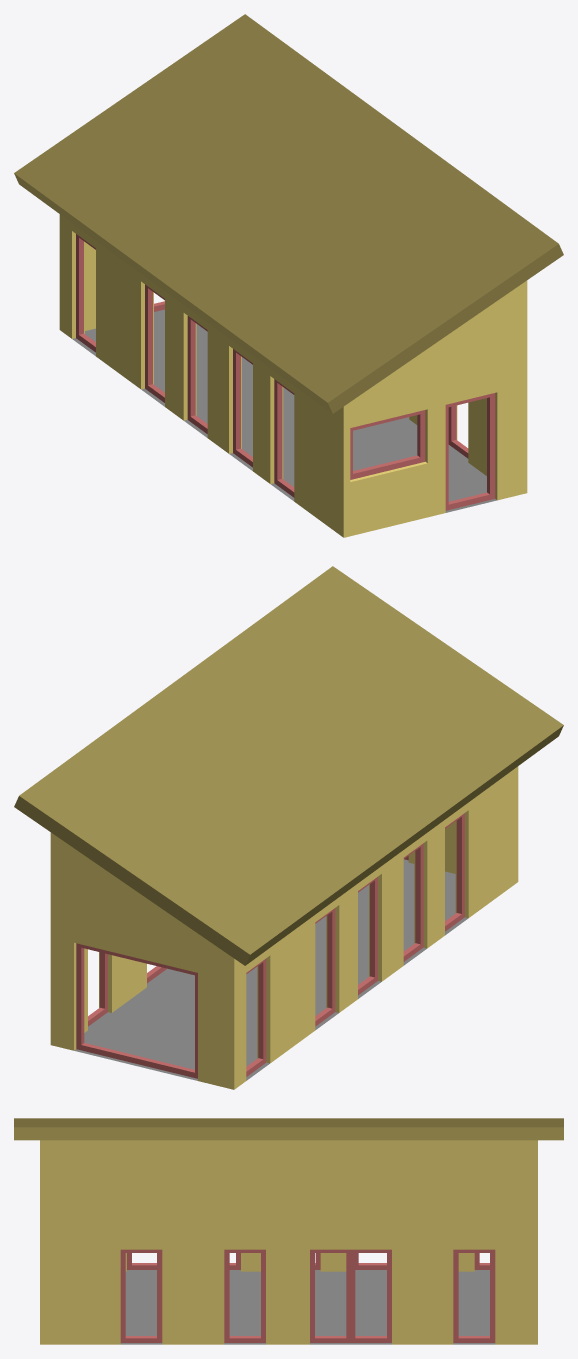
The model's file is result.glb.
The picture shows the model from 3 angles, top to bottom: view 1: azimuth 30°, elevation 25°; view 2: azimuth 150°, elevation 25°; view 3: azimuth 270°, elevation 25°; orthographic projection. The views are drawn at different scales.
Parts seen in each view (by area): view 1: 78934ef8-5779-4a26-8c1c-801f2c1f77dc__undefined, cd479d4e-d19c-4d87-b13c-b2aa748c5237__undefined, fa5a389a-46b9-4f97-81e4-576b27971454__Plane_14, f02e9ea4-f095-4705-b580-7620a6db1b95__Box, e872c83a-c687-47ac-b15b-e4620ad57866__Box_3, eb5b66d4-82ef-4c27-a165-b416f7202d84__Box_12, 17ca66a0-f0e3-4861-9c7f-3a3491b7ace8__Box_18, 2b258c66-caca-48c2-92f3-9c0e418b07a3__Box_21, 73145b31-9e28-4f31-8d9f-2ed79657a4d2__Box_15, abf43171-7023-42b4-a584-f869cf76698a__Box_24; view 2: 78934ef8-5779-4a26-8c1c-801f2c1f77dc__undefined, cd479d4e-d19c-4d87-b13c-b2aa748c5237__undefined, fa5a389a-46b9-4f97-81e4-576b27971454__Plane_14, 88b38bbc-4b21-4c06-92ce-68c6e1b52bb0__Box_9, abf43171-7023-42b4-a584-f869cf76698a__Box_24, 2b258c66-caca-48c2-92f3-9c0e418b07a3__Box_21, 73145b31-9e28-4f31-8d9f-2ed79657a4d2__Box_15, eb5b66d4-82ef-4c27-a165-b416f7202d84__Box_12, 17ca66a0-f0e3-4861-9c7f-3a3491b7ace8__Box_18; view 3: cd479d4e-d19c-4d87-b13c-b2aa748c5237__undefined, 78934ef8-5779-4a26-8c1c-801f2c1f77dc__undefined, fa5a389a-46b9-4f97-81e4-576b27971454__Plane_14, fd828536-f964-4f25-928d-689e93e7c194__Box_39, 5e2315c0-606f-42ff-bd8f-ebd3a9e3d602__Box_27, 066c71ab-774b-4dbe-a9c9-c928105eb89a__Box_30, af400810-23f4-4eae-b261-5957daaef445__Box_33, 068a6796-7b16-428c-90b3-76483e1ce61e__Box_36.
Part boxes in pixels (bbox=[...]): 78934ef8-5779-4a26-8c1c-801f2c1f77dc__undefined: bbox=[14, 14, 563, 413]; cd479d4e-d19c-4d87-b13c-b2aa748c5237__undefined: bbox=[59, 214, 527, 537]; fa5a389a-46b9-4f97-81e4-576b27971454__Plane_14: bbox=[72, 309, 496, 512]; f02e9ea4-f095-4705-b580-7620a6db1b95__Box: bbox=[445, 393, 495, 510]; e872c83a-c687-47ac-b15b-e4620ad57866__Box_3: bbox=[350, 410, 425, 479]; eb5b66d4-82ef-4c27-a165-b416f7202d84__Box_12: bbox=[274, 379, 294, 497]; 17ca66a0-f0e3-4861-9c7f-3a3491b7ace8__Box_18: bbox=[187, 316, 207, 433]; 2b258c66-caca-48c2-92f3-9c0e418b07a3__Box_21: bbox=[145, 284, 164, 402]; 73145b31-9e28-4f31-8d9f-2ed79657a4d2__Box_15: bbox=[233, 349, 252, 467]; abf43171-7023-42b4-a584-f869cf76698a__Box_24: bbox=[76, 234, 95, 352]; 78934ef8-5779-4a26-8c1c-801f2c1f77dc__undefined: bbox=[14, 566, 563, 965]; cd479d4e-d19c-4d87-b13c-b2aa748c5237__undefined: bbox=[50, 766, 518, 1089]; fa5a389a-46b9-4f97-81e4-576b27971454__Plane_14: bbox=[74, 859, 468, 1080]; 88b38bbc-4b21-4c06-92ce-68c6e1b52bb0__Box_9: bbox=[76, 943, 197, 1078]; abf43171-7023-42b4-a584-f869cf76698a__Box_24: bbox=[246, 958, 266, 1076]; 2b258c66-caca-48c2-92f3-9c0e418b07a3__Box_21: bbox=[315, 908, 335, 1026]; 73145b31-9e28-4f31-8d9f-2ed79657a4d2__Box_15: bbox=[403, 843, 423, 961]; eb5b66d4-82ef-4c27-a165-b416f7202d84__Box_12: bbox=[445, 813, 464, 931]; 17ca66a0-f0e3-4861-9c7f-3a3491b7ace8__Box_18: bbox=[358, 877, 377, 995]; cd479d4e-d19c-4d87-b13c-b2aa748c5237__undefined: bbox=[40, 1140, 537, 1344]; 78934ef8-5779-4a26-8c1c-801f2c1f77dc__undefined: bbox=[14, 1118, 563, 1140]; fa5a389a-46b9-4f97-81e4-576b27971454__Plane_14: bbox=[120, 1270, 495, 1344]; fd828536-f964-4f25-928d-689e93e7c194__Box_39: bbox=[453, 1249, 495, 1342]; 5e2315c0-606f-42ff-bd8f-ebd3a9e3d602__Box_27: bbox=[120, 1249, 162, 1342]; 066c71ab-774b-4dbe-a9c9-c928105eb89a__Box_30: bbox=[224, 1249, 265, 1342]; af400810-23f4-4eae-b261-5957daaef445__Box_33: bbox=[310, 1249, 351, 1342]; 068a6796-7b16-428c-90b3-76483e1ce61e__Box_36: bbox=[351, 1249, 391, 1342].
Size of the model in its own units: 457 by 474 by 1052.
